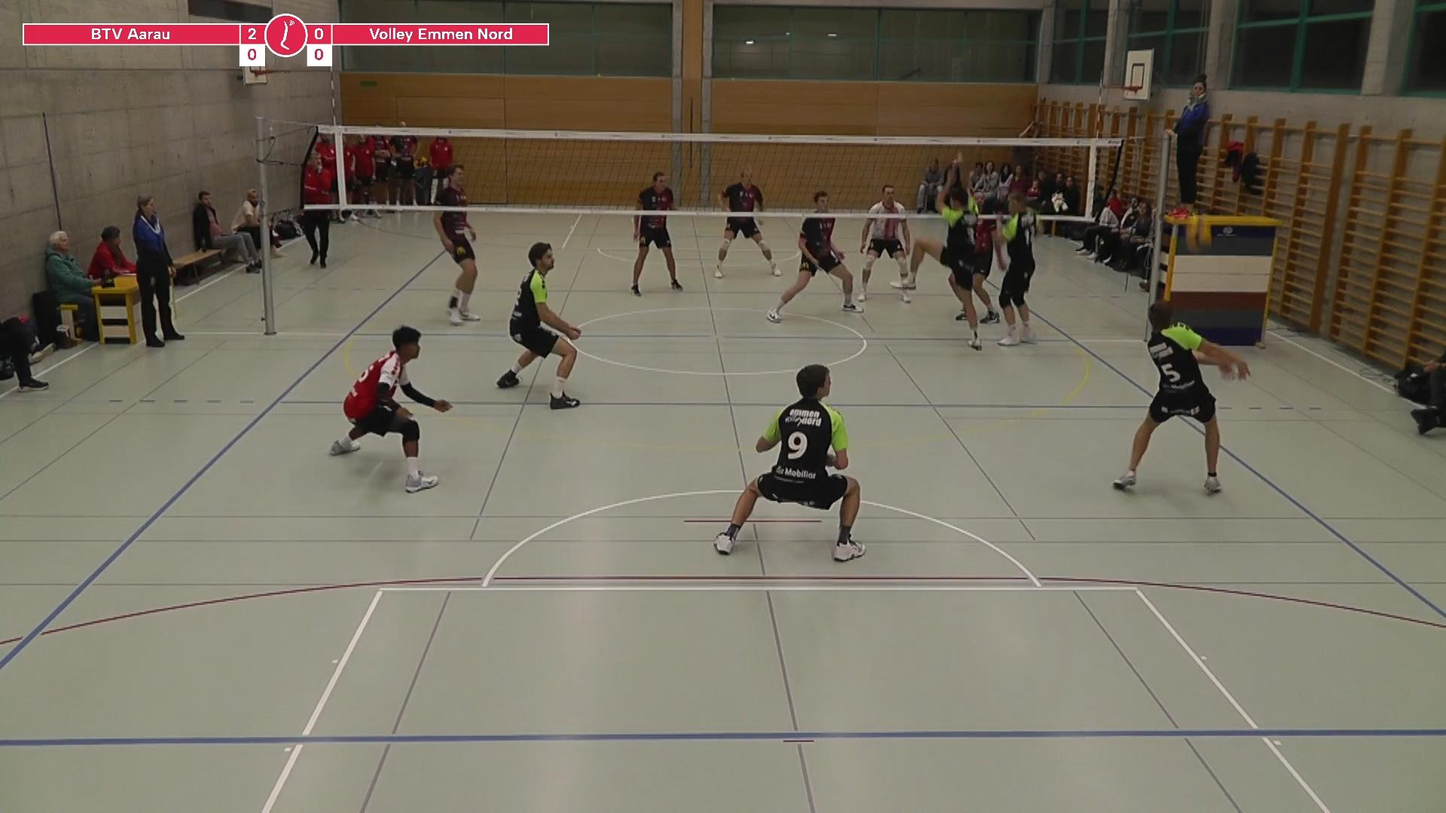Dig: (1100, 295, 1259, 508)
Player: (714, 365, 864, 561), (330, 326, 451, 492), (891, 157, 981, 349), (496, 243, 580, 409), (767, 190, 862, 321), (434, 165, 480, 325), (715, 169, 780, 278), (955, 190, 1004, 324), (996, 191, 1036, 346), (857, 184, 910, 300), (630, 215, 682, 295)
ball: (1182, 213, 1214, 251)
